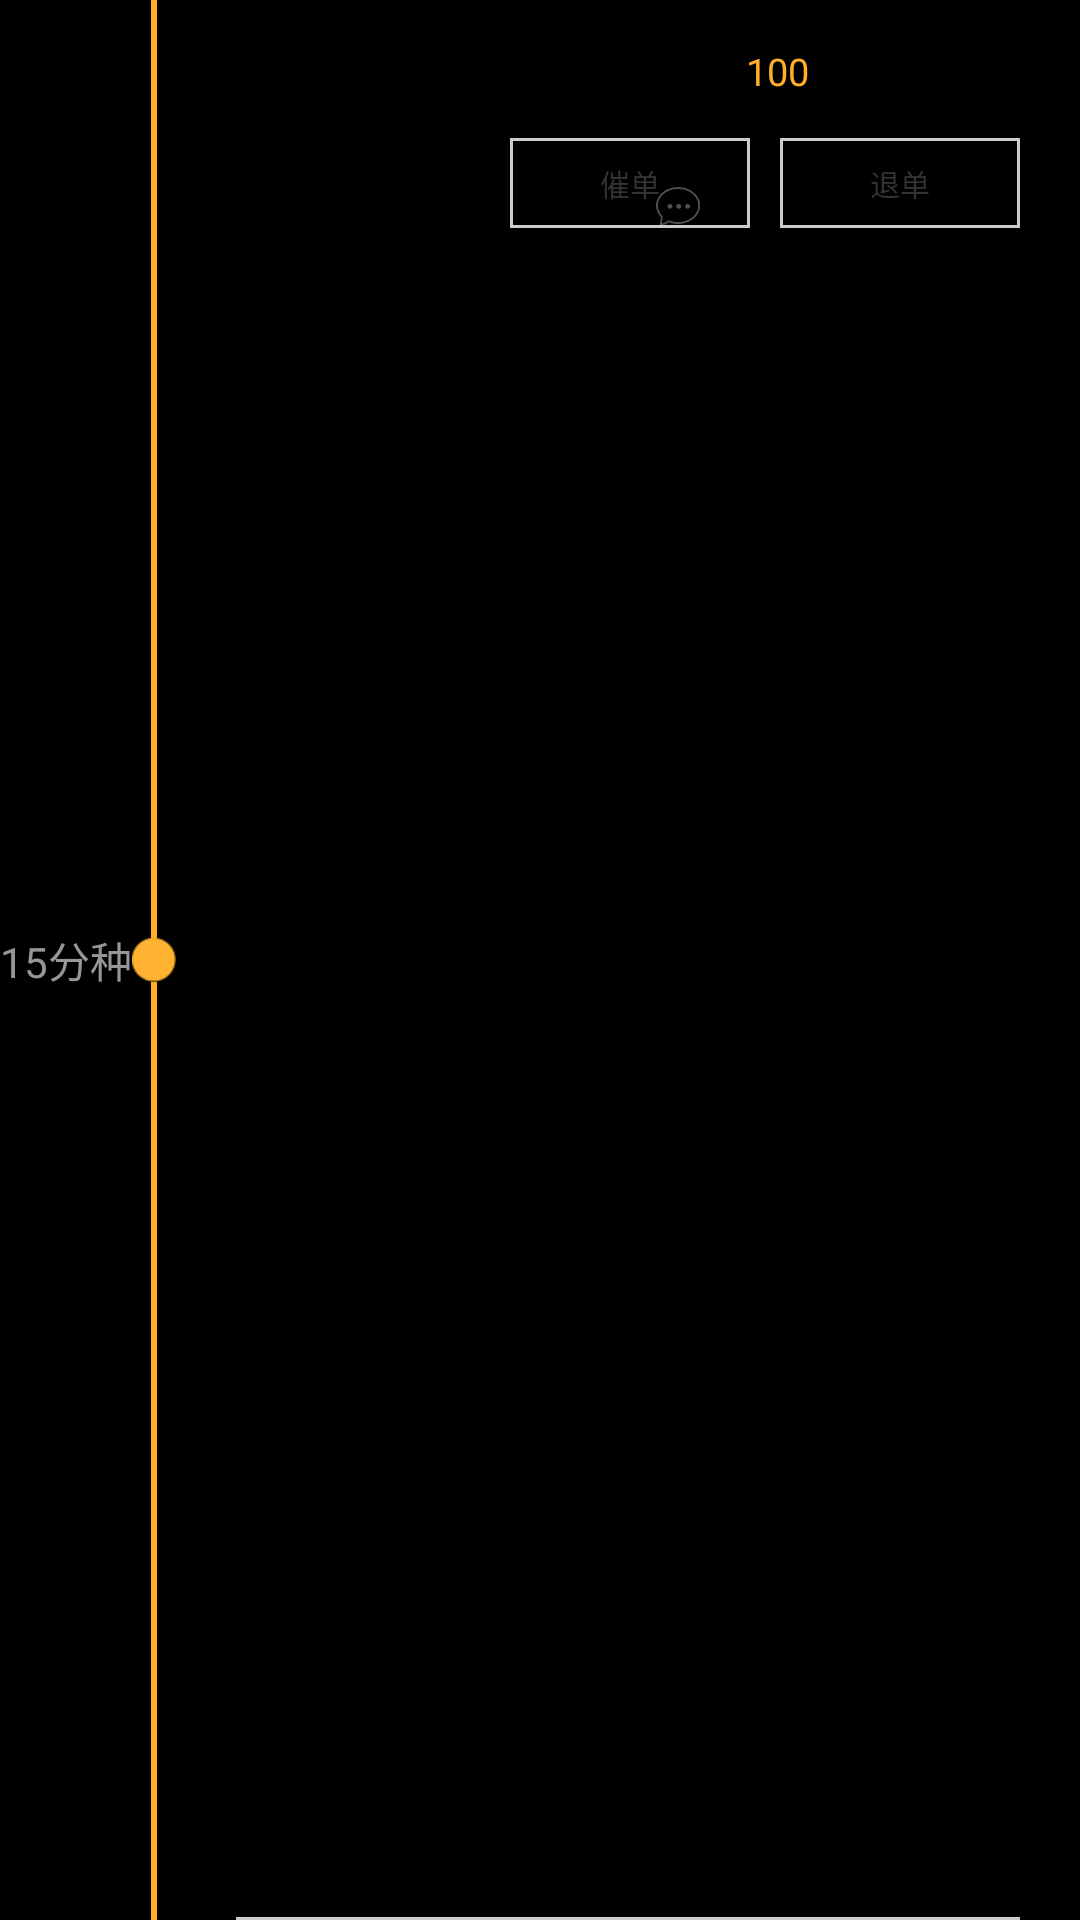

Named icons in this screenshot (1080×1920) and their centers, (x,y):
comment: (678,206)
